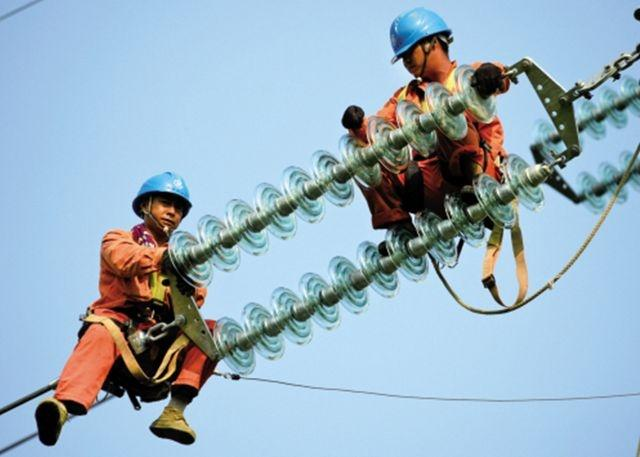Helmet: (387, 6, 454, 76), (132, 171, 194, 232)
